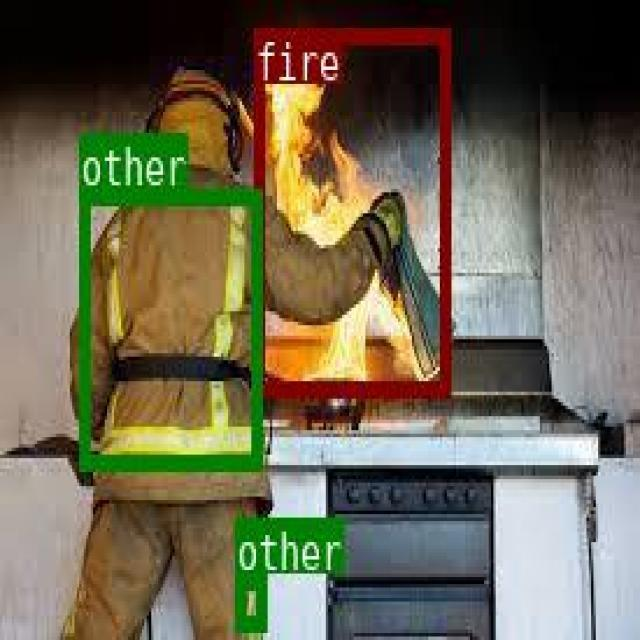fire: (252, 26, 448, 394)
